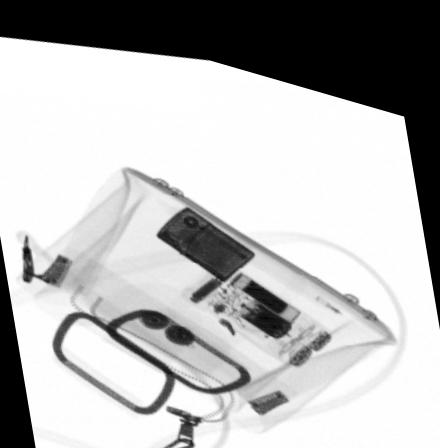Lighter: (153, 194, 255, 269)
